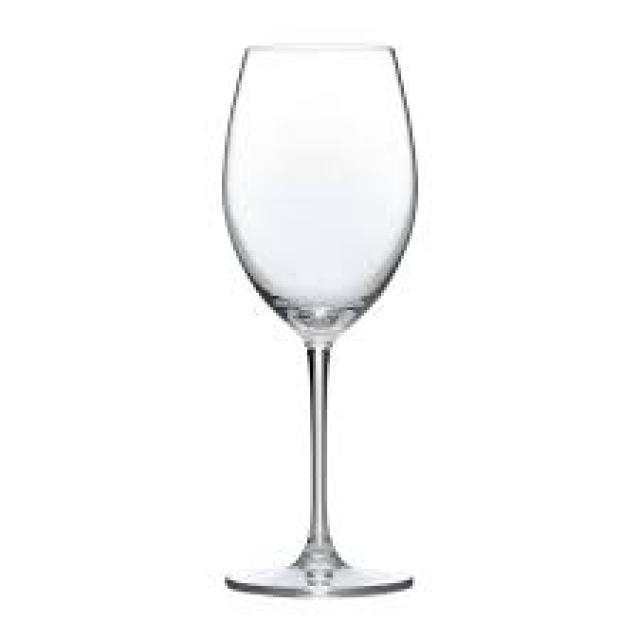Glass: (224, 41, 416, 598)
